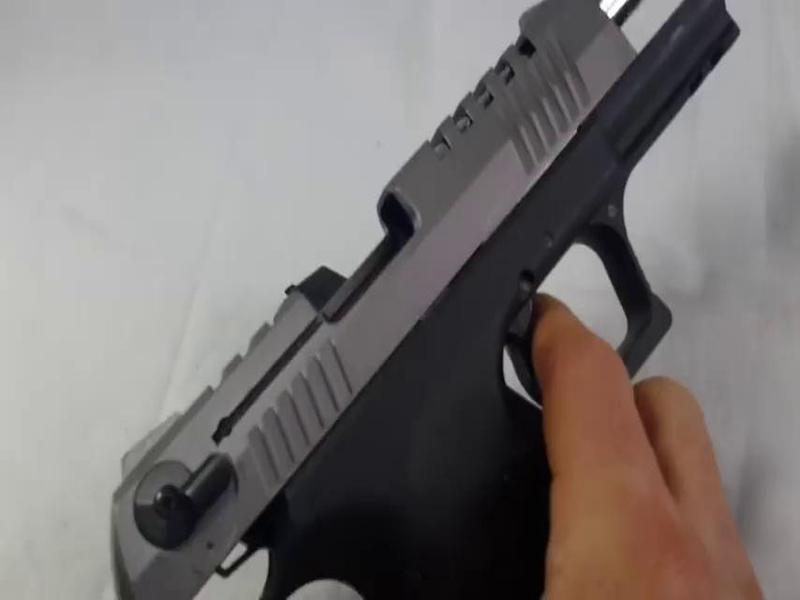Pistola: (141, 2, 727, 598)
